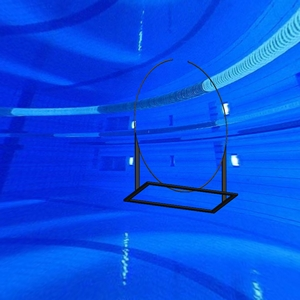circle: (123, 58, 240, 215)
